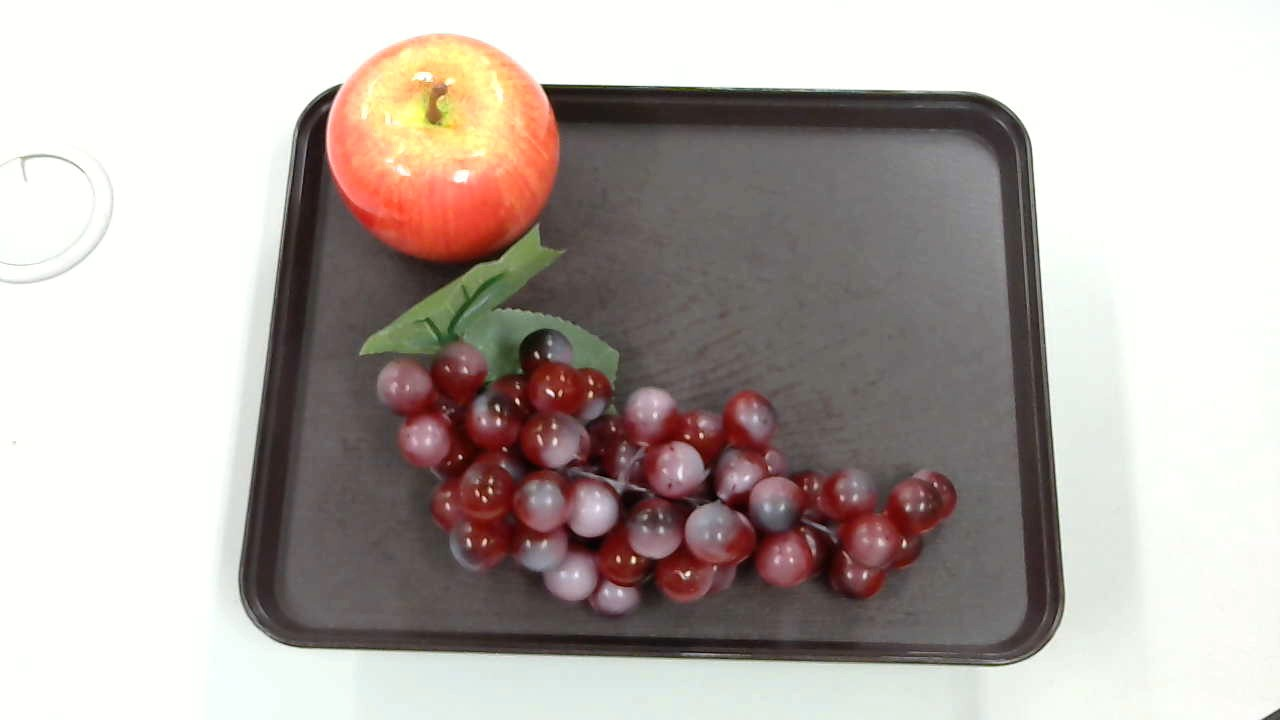grape: (351, 224, 962, 610)
red apple: (324, 35, 568, 278)
